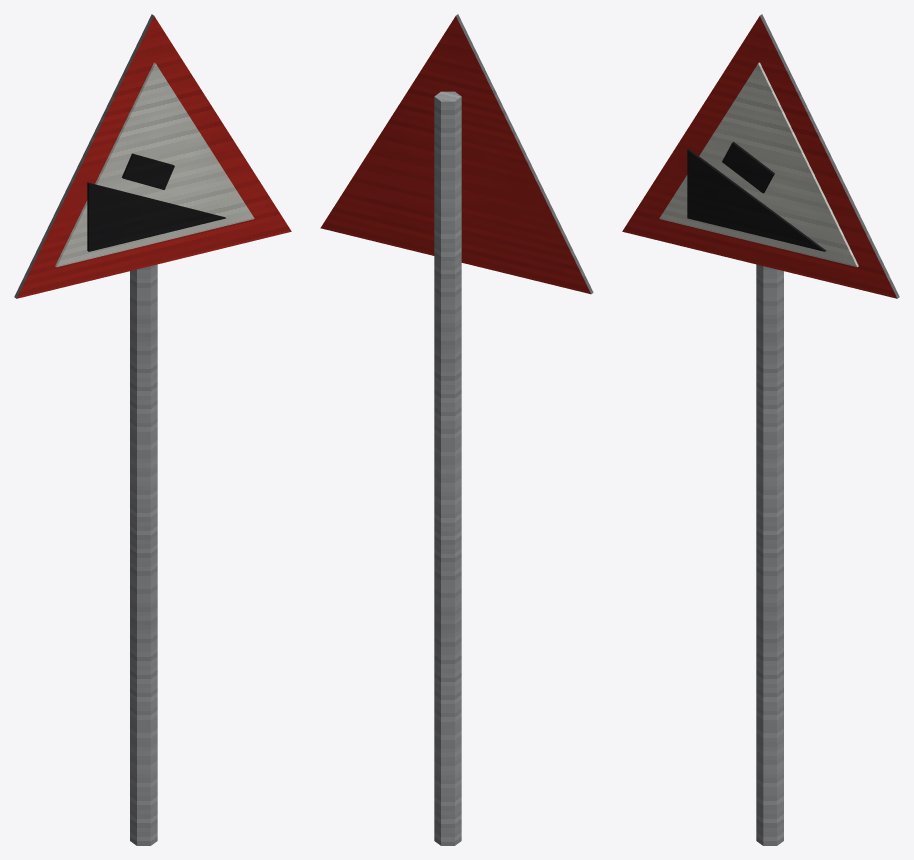
Rendered from placa_declive.glb.
3 views of the same model, side by side, from view 1: azimuth 30°, elevation 25°; view 2: azimuth 150°, elevation 25°; view 3: azimuth 330°, elevation 25° (orthographic).
Visible parts, largest first — view 1: Inteiro; view 2: Inteiro, Peca_01; view 3: Inteiro.
Boxes of the visible parts, x1=… form: Inteiro: x1=14, y1=14, x2=291, y2=845; Inteiro: x1=327, y1=14, x2=593, y2=845; Peca_01: x1=320, y1=39, x2=560, y2=285; Inteiro: x1=622, y1=14, x2=899, y2=845.
Bounding box in the file's own units: 0.8 × 2.31 × 0.105.
Materials: 1 (1 with a texture image).
